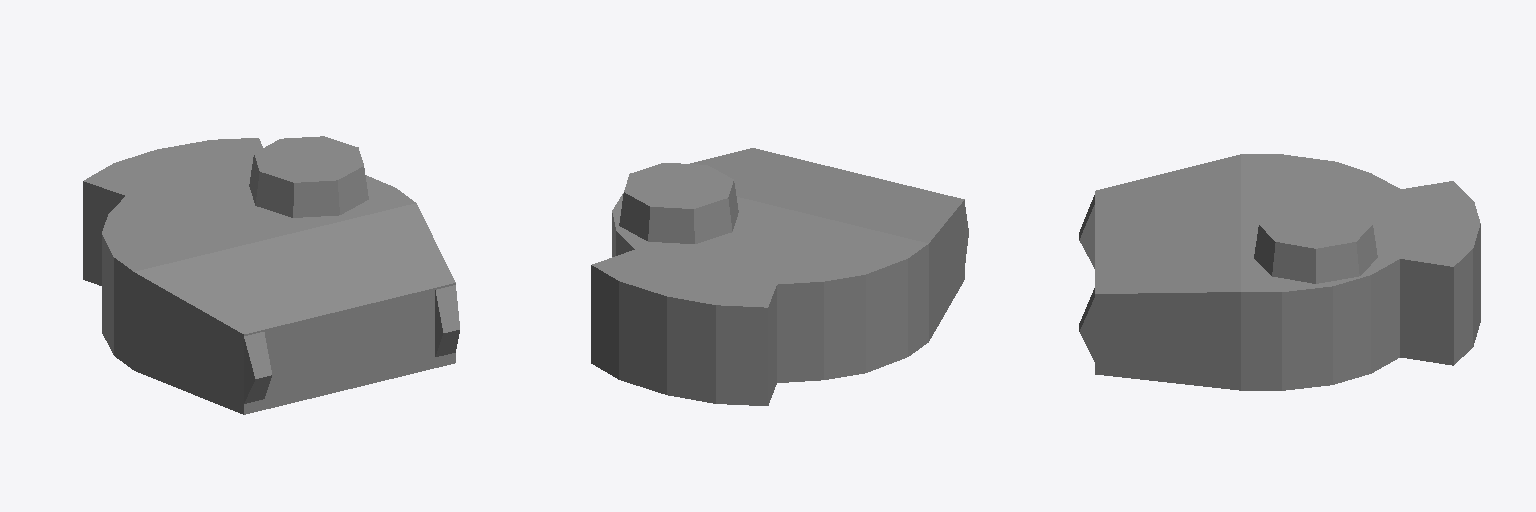
Rendered from turret.obj.
3 views of the same model, side by side, from view 1: azimuth 30°, elevation 25°; view 2: azimuth 150°, elevation 25°; view 3: azimuth 270°, elevation 25° (orthographic).
Visible parts, largest first — view 1: turret; view 2: turret; view 3: turret.
Part boxes in pixels (x1,y1,x2,y2): turret: (83, 136, 459, 414); turret: (591, 148, 968, 405); turret: (1079, 154, 1480, 390).
Bounding box in the file's own units: 6.3 × 2.81 × 7.74.